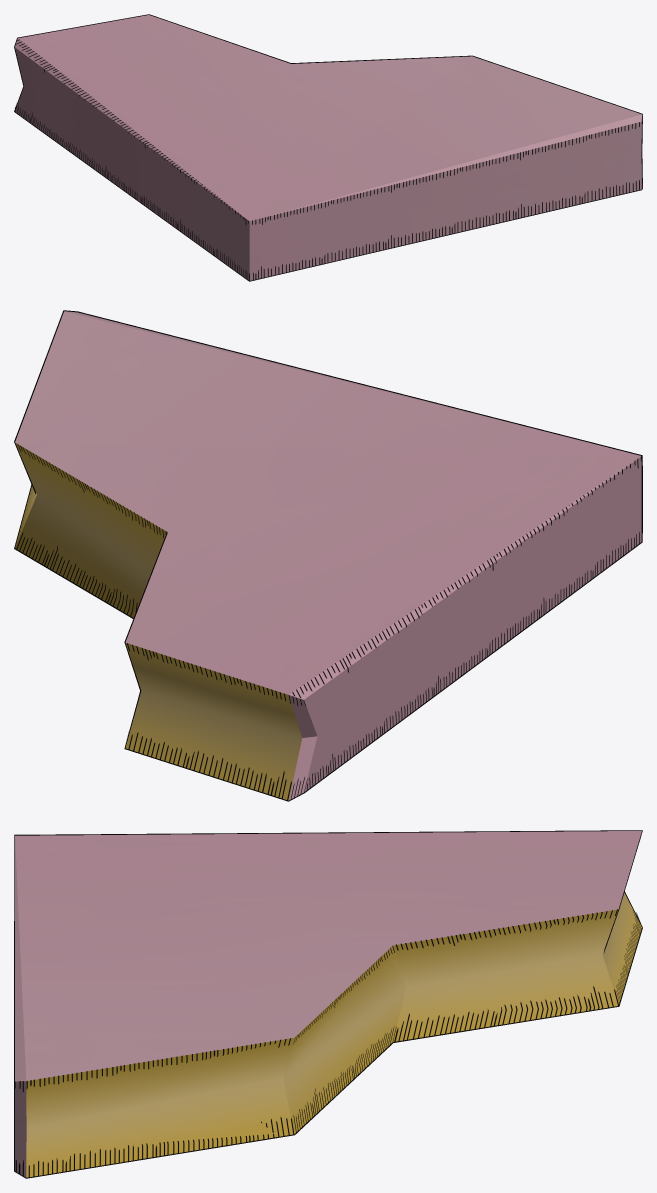
File: crystal-crossroads__Wall_CornerBroken.glb
The picture shows the model from 3 angles, top to bottom: view 1: azimuth 30°, elevation 25°; view 2: azimuth 150°, elevation 25°; view 3: azimuth 270°, elevation 25°; orthographic projection. The views are drawn at different scales.
Visible parts, largest first — view 1: Wall_CornerBroken; view 2: Wall_CornerBroken; view 3: Wall_CornerBroken.
Part boxes in pixels (x1,y1,x2,y2): Wall_CornerBroken: (14,14,642,281); Wall_CornerBroken: (14,310,642,801); Wall_CornerBroken: (14,830,642,1178).
Bounding box in the file's own units: 1.84 × 0.3282 × 1.91.
Materials: 3 (2 with a texture image).
